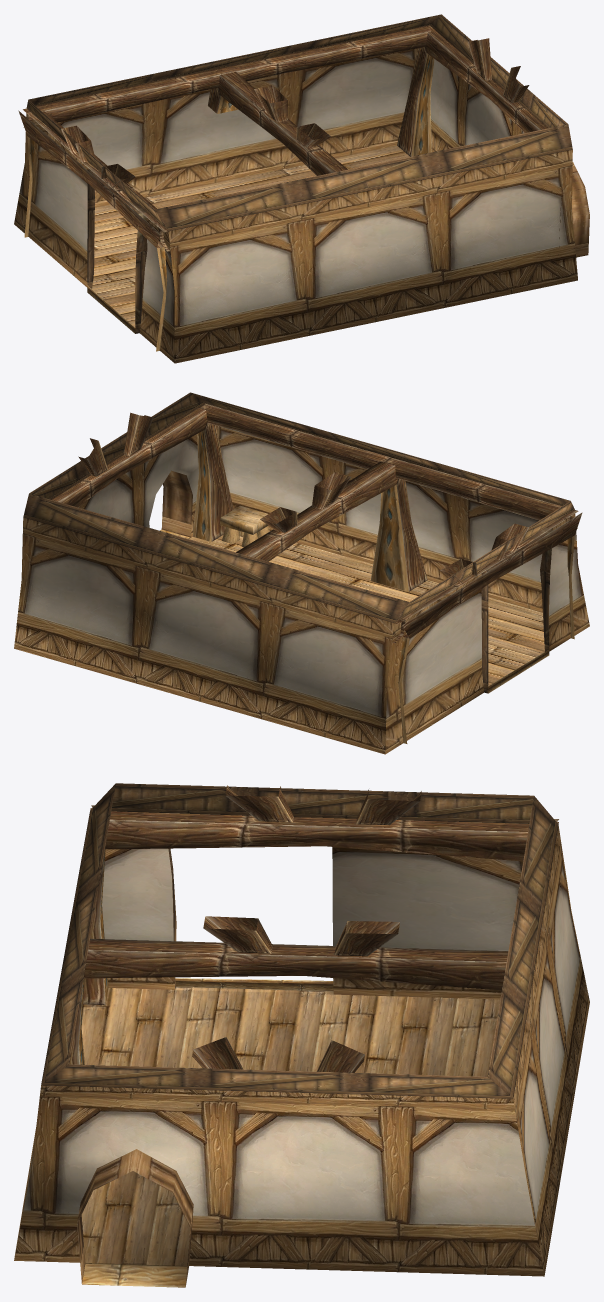
File: stormwind_243.fbx
3 views of the same model, one above another, from view 1: azimuth 30°, elevation 25°; view 2: azimuth 150°, elevation 25°; view 3: azimuth 270°, elevation 25° (orthographic). The views are drawn at different scales.
Visible parts, largest first — view 1: stormwind_243_48, stormwind_243_53, stormwind_243_56, stormwind_243_51, stormwind_243_49; view 2: stormwind_243_48, stormwind_243_53, stormwind_243_56, stormwind_243_51, stormwind_243_49, stormwind_243_54; view 3: stormwind_243_48, stormwind_243_53, stormwind_243_51, stormwind_243_56, stormwind_243_49.
Boxes of the visible parts, <box> form: stormwind_243_48: <box>14,48,577,363</box>; stormwind_243_53: <box>18,25,564,351</box>; stormwind_243_56: <box>26,14,572,333</box>; stormwind_243_51: <box>92,145,409,327</box>; stormwind_243_49: <box>136,162,589,257</box>; stormwind_243_48: <box>14,411,589,754</box>; stormwind_243_53: <box>51,403,582,743</box>; stormwind_243_56: <box>23,392,574,693</box>; stormwind_243_51: <box>189,535,544,686</box>; stormwind_243_49: <box>161,470,552,572</box>; stormwind_243_54: <box>219,505,269,547</box>; stormwind_243_48: <box>14,811,589,1276</box>; stormwind_243_53: <box>19,785,558,1287</box>; stormwind_243_51: <box>81,987,500,1265</box>; stormwind_243_56: <box>41,783,558,1098</box>; stormwind_243_49: <box>77,848,193,1286</box>.
Bounding box in the file's own units: 20.23 × 7.09 × 16.2.
